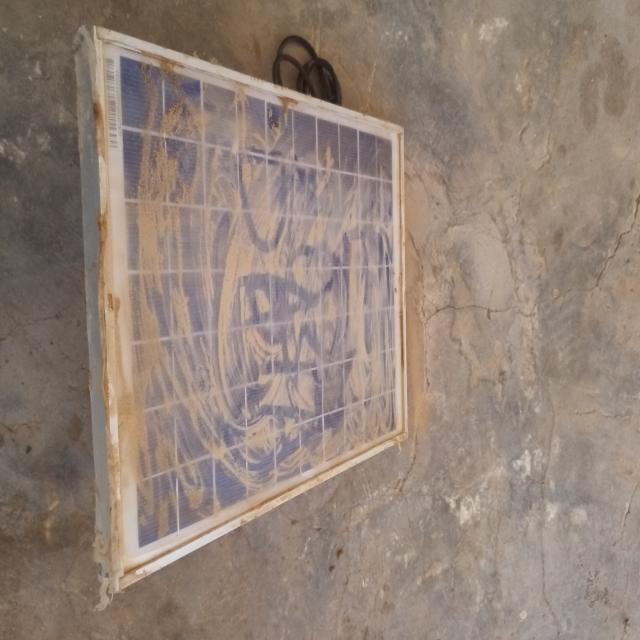faulty: (91, 33, 408, 593)
